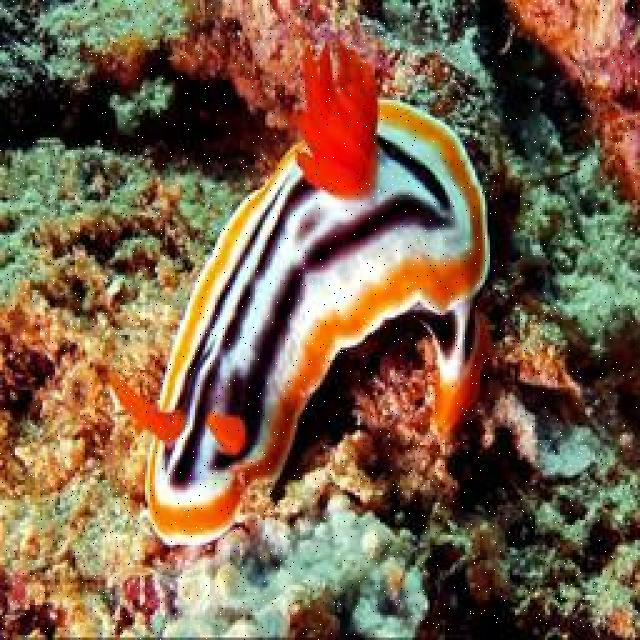reefs: (108, 32, 492, 548)
